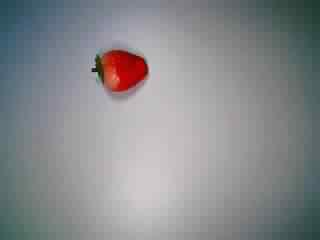strawberry: (86, 38, 154, 102)
